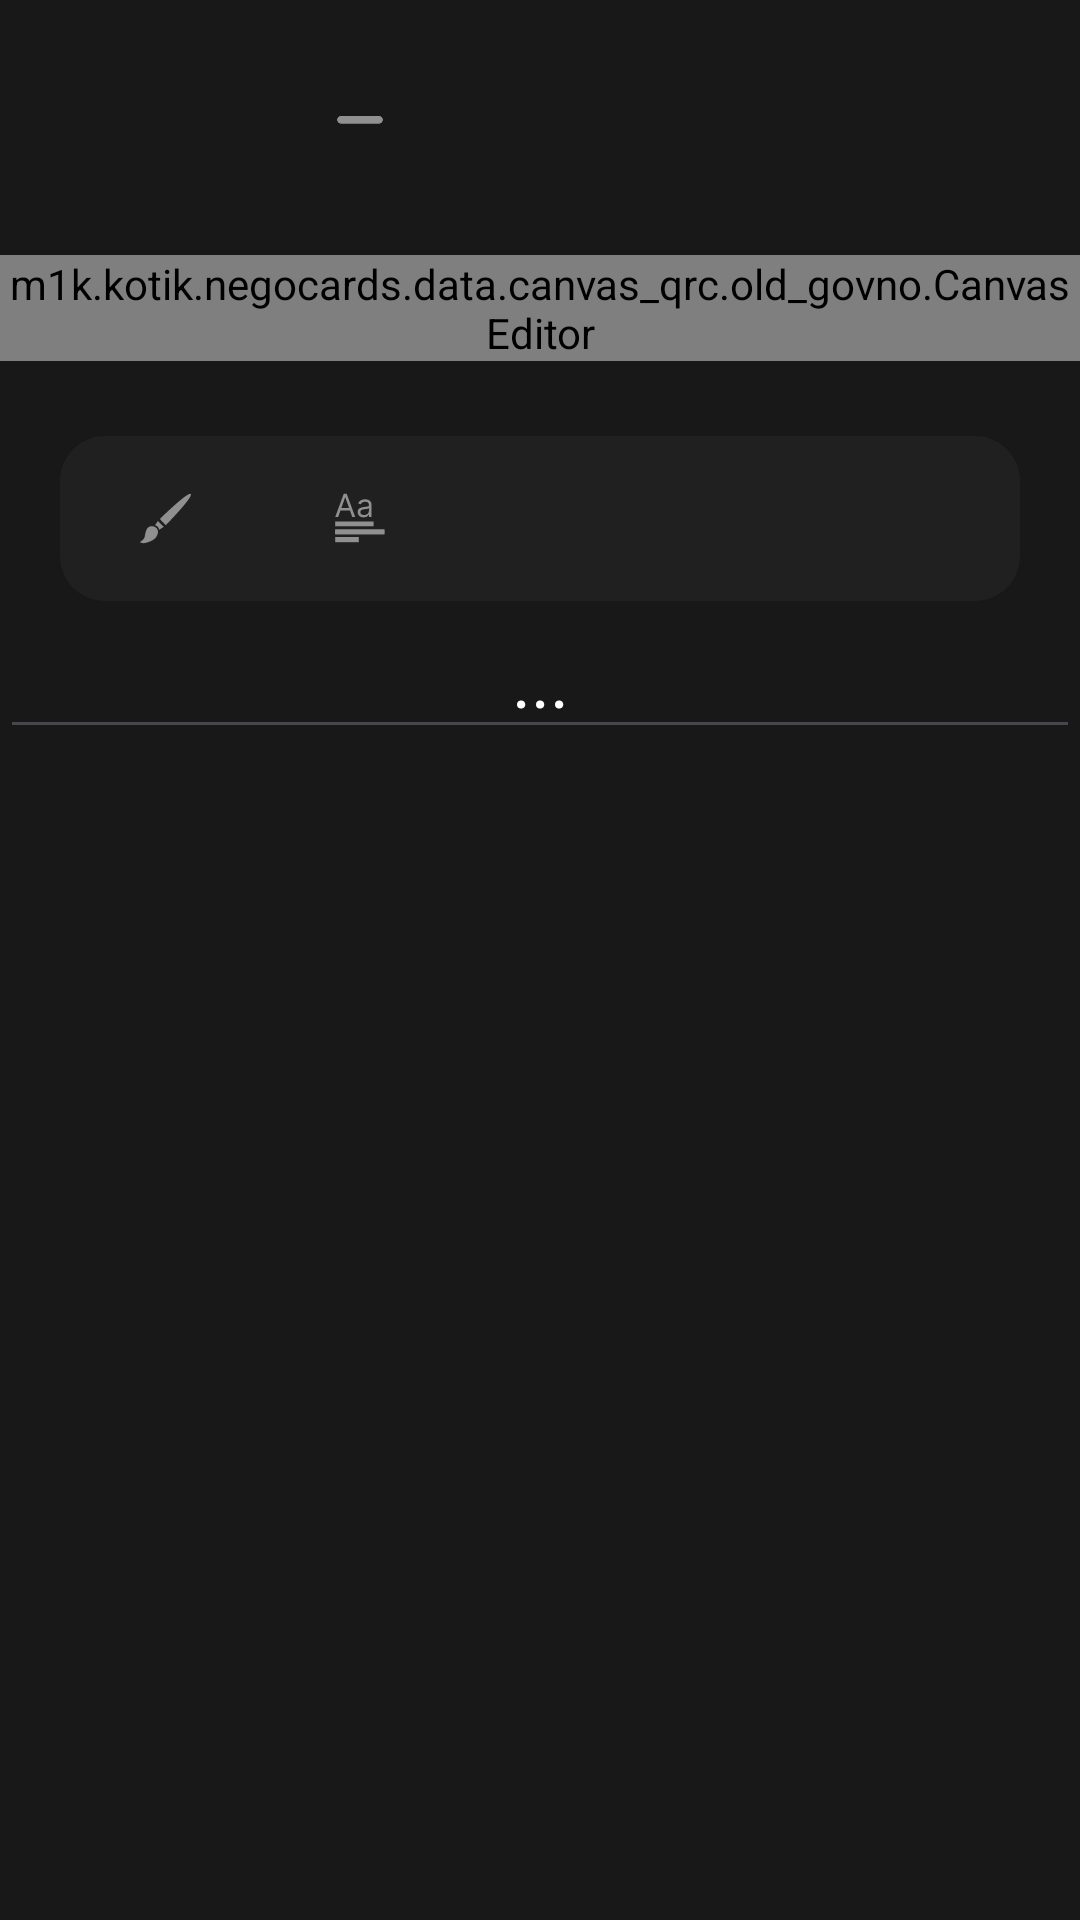

Icons on this 1080*1920 Android screen, each with the point to tap as (x=x, y=y):
brush: (x=165, y=519)
grayminus: (x=360, y=120)
inptexticon: (x=360, y=517)
